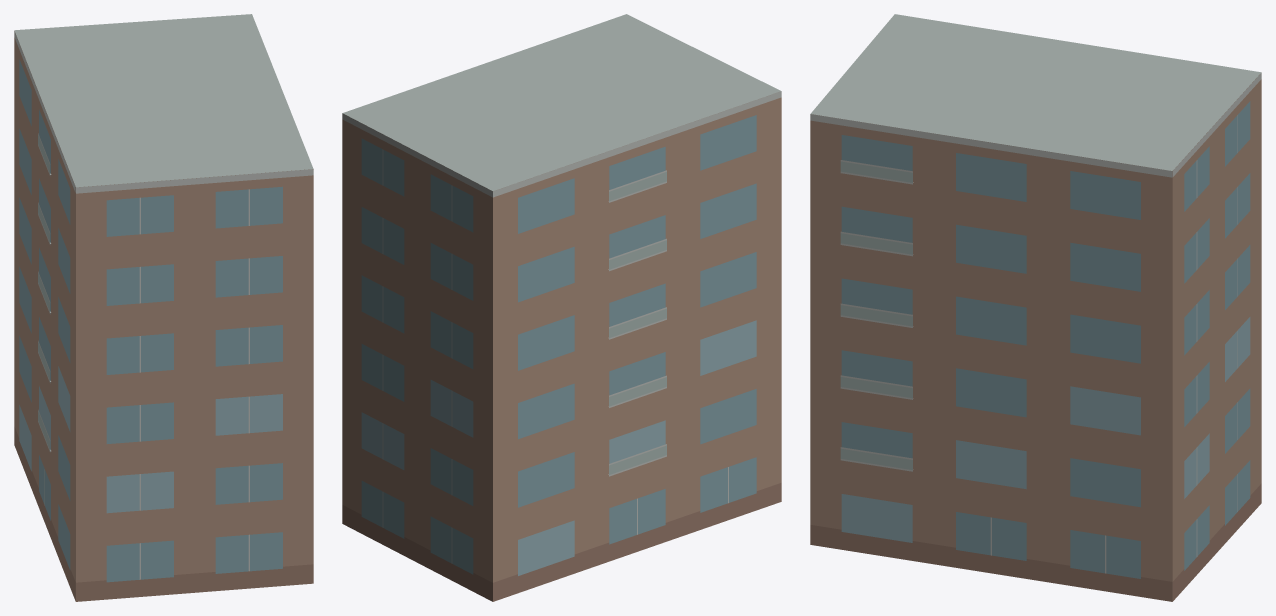
File: survey-upis-32893665.glb
3 views of the same model, side by side, from view 1: azimuth 30°, elevation 25°; view 2: azimuth 150°, elevation 25°; view 3: azimuth 270°, elevation 25° (orthographic). The views are drawn at different scales.
Parts seen in each view (by area): view 1: survey-upis-32893665.tmp; view 2: survey-upis-32893665.tmp; view 3: survey-upis-32893665.tmp.
Part boxes in pixels (<box>): survey-upis-32893665.tmp: <box>14,14,313,601</box>; survey-upis-32893665.tmp: <box>342,14,781,601</box>; survey-upis-32893665.tmp: <box>810,14,1261,601</box>.
Bounding box in the file's own units: 12.52 × 16 × 15.2.
